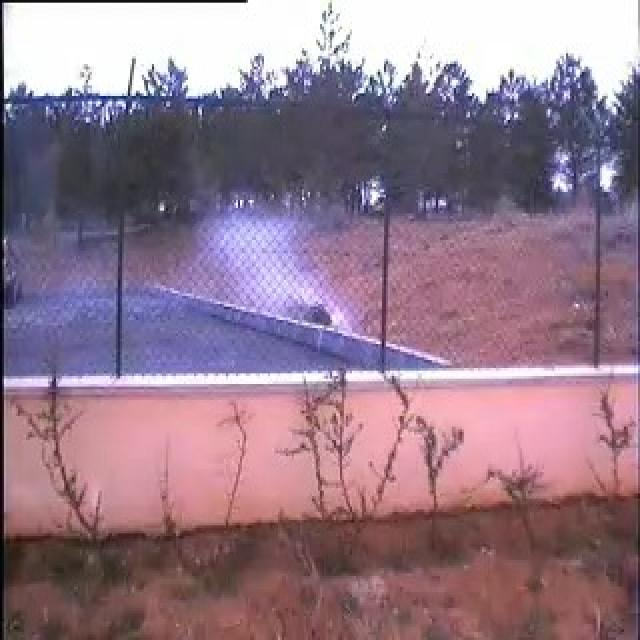smoke: (73, 206, 380, 367)
